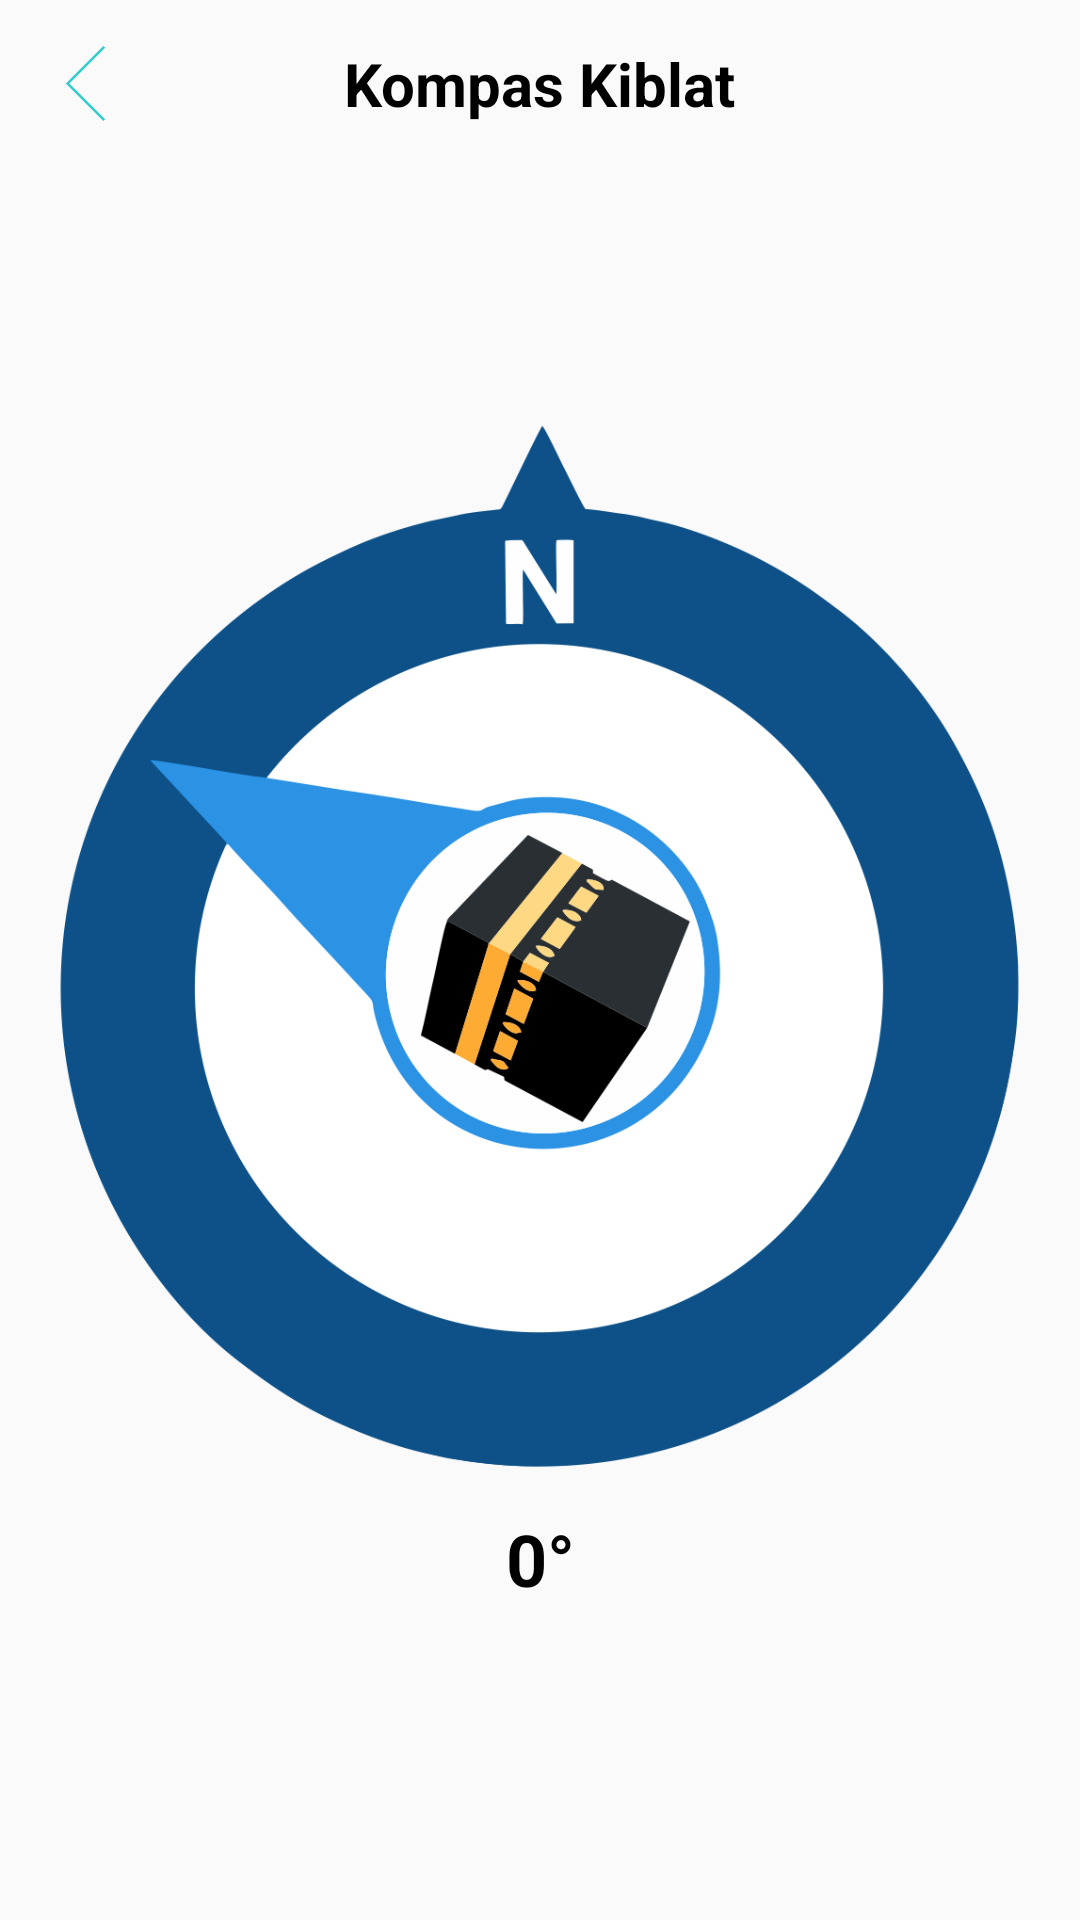

Named icons in this screenshot (1080 x 1920) and their bounding boxes, BBox(x1, y1, x2, y2):
left arrow: BBox(66, 46, 105, 121)
